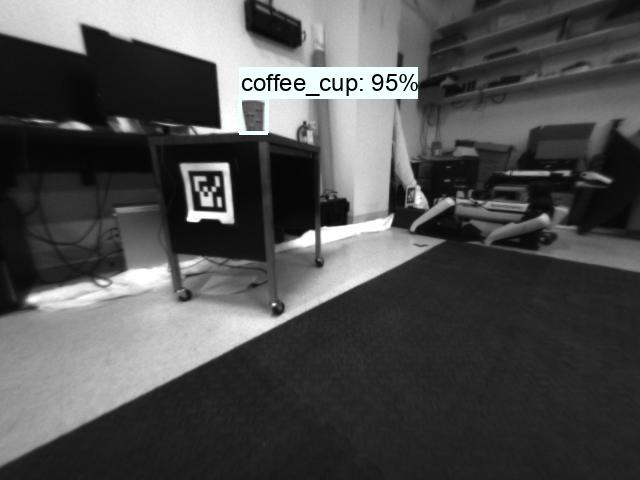coffee_cup: (239, 97, 268, 133)
